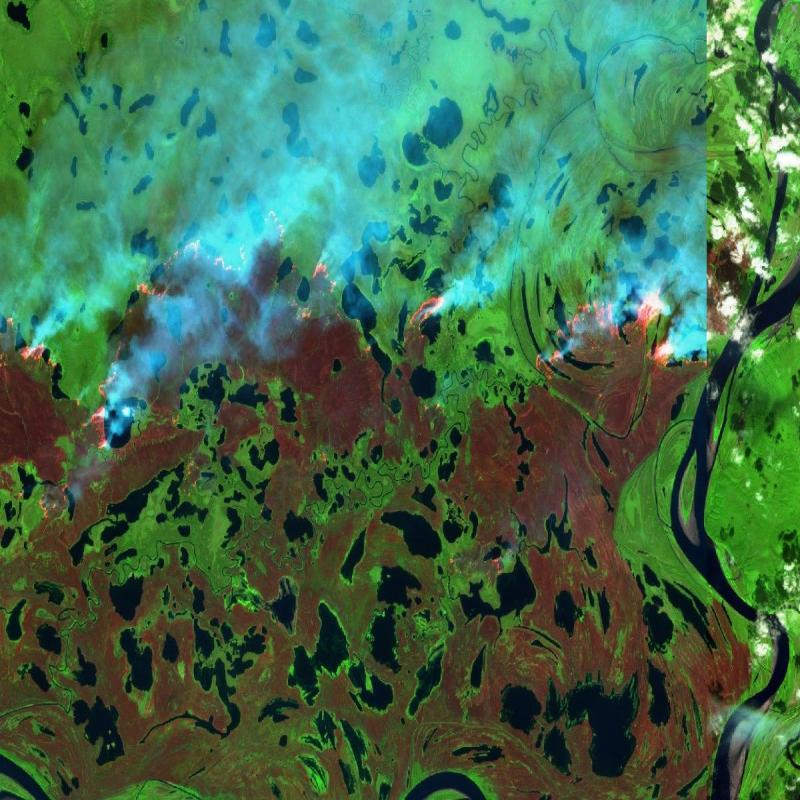fire: (0, 191, 708, 523)
